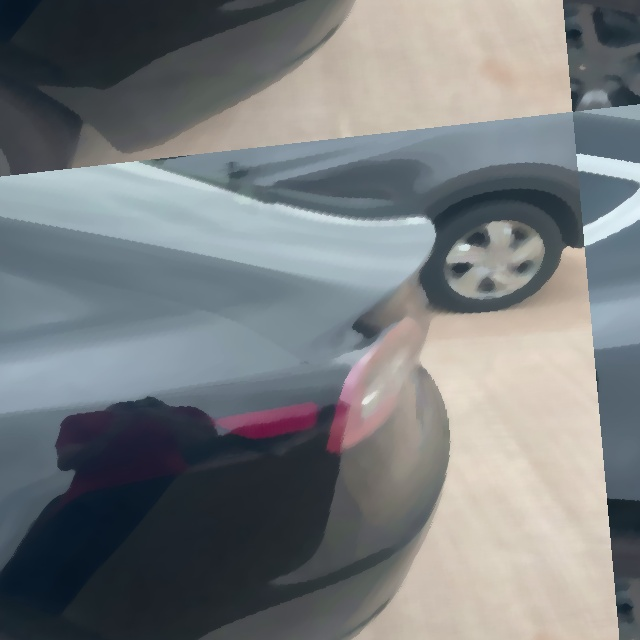reflector: (206, 399, 322, 444)
